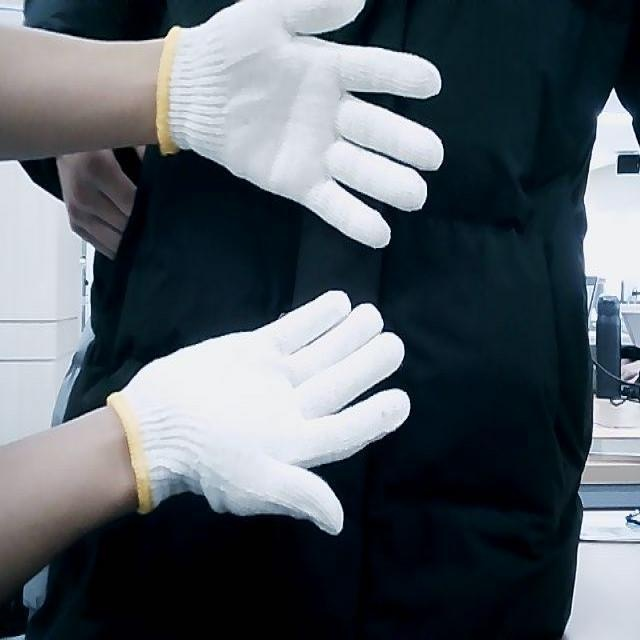Guantes: (106, 288, 414, 538), (152, 0, 447, 254)
